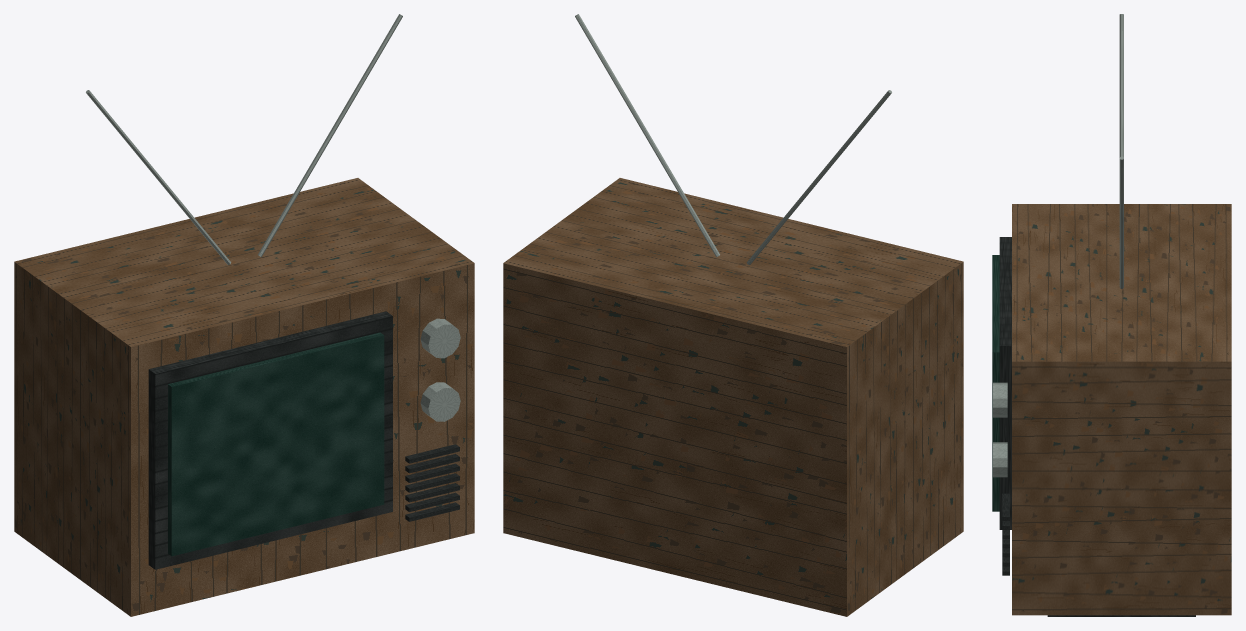
Rendered from CIS_OldTelevision.obj.
3 views of the same model, side by side, from view 1: azimuth 30°, elevation 25°; view 2: azimuth 150°, elevation 25°; view 3: azimuth 270°, elevation 25° (orthographic). The views are drawn at different scales.
Parts seen in each view (by area): view 1: CIS_OldTelevision; view 2: CIS_OldTelevision; view 3: CIS_OldTelevision.
Boxes of the visible parts, left/top/right/bottom form: CIS_OldTelevision: left=14, top=14, right=474, bottom=616; CIS_OldTelevision: left=503, top=14, right=963, bottom=616; CIS_OldTelevision: left=992, top=14, right=1231, bottom=616.
Bounding box in the file's own units: 0.68 × 0.942 × 0.436.
4 materials, 4 textured.
